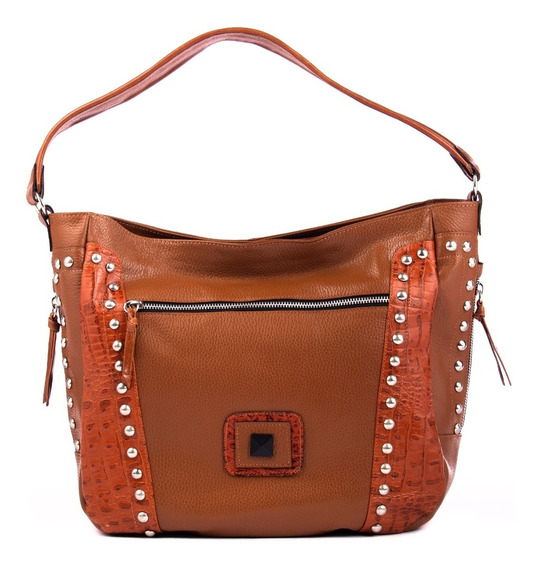cartera: (24, 24, 486, 540)
